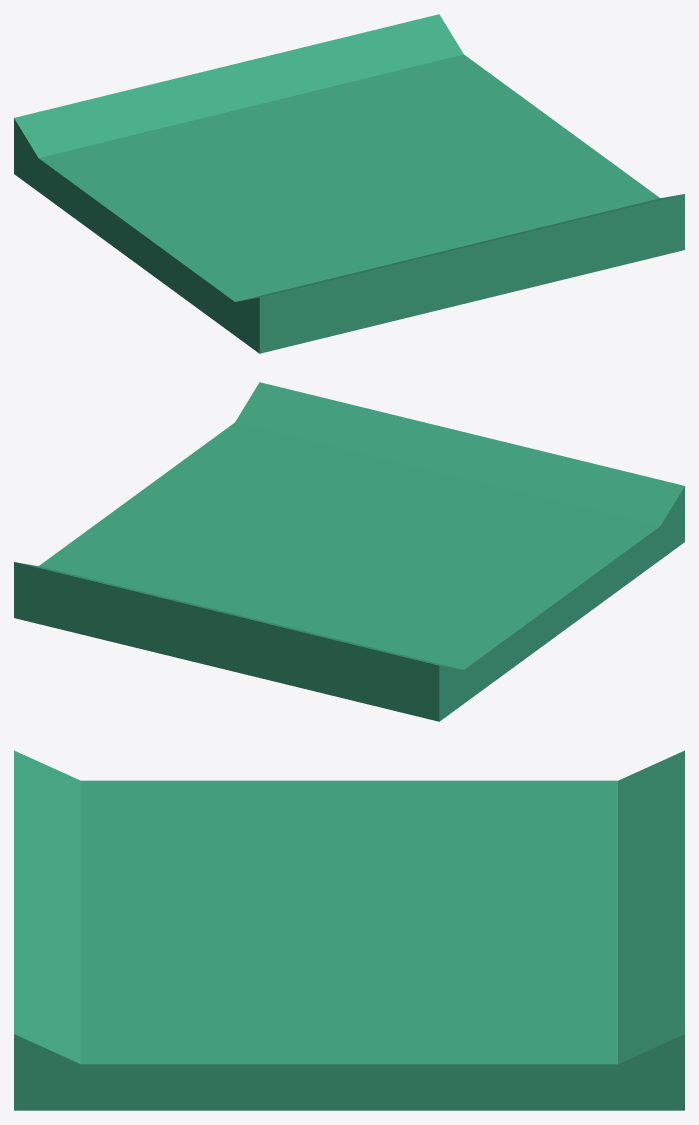
Rendered from roofFlat.obj.
The picture shows the model from 3 angles, top to bottom: view 1: azimuth 30°, elevation 25°; view 2: azimuth 150°, elevation 25°; view 3: azimuth 270°, elevation 25°; orthographic projection. The views are drawn at different scales.
Visible parts, largest first — view 1: roofFlat; view 2: roofFlat; view 3: roofFlat.
Part boxes in pixels (x1,y1,x2,y2): roofFlat: (14, 14, 684, 353); roofFlat: (14, 382, 684, 721); roofFlat: (14, 750, 684, 1110).
Bounding box in the file's own units: 1 × 0.126 × 1.
